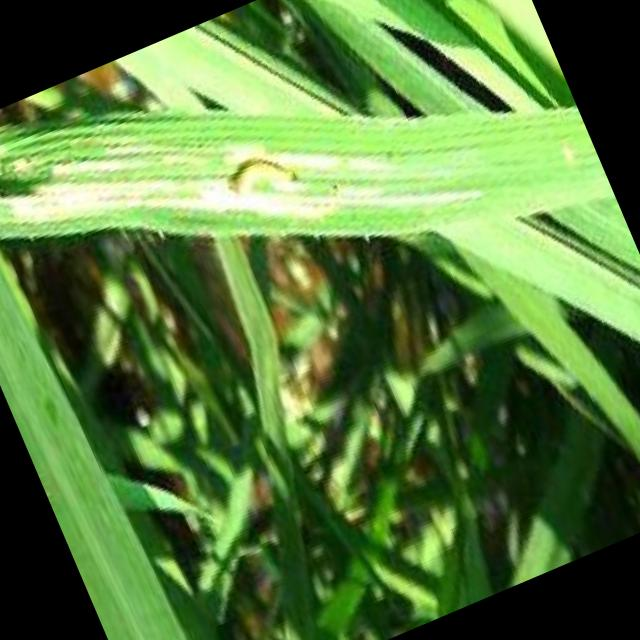leaf-folder: (206, 128, 309, 224)
